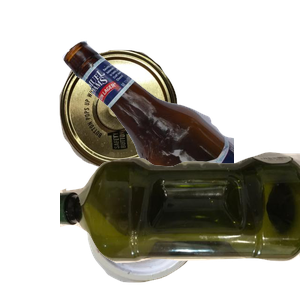glass: (60, 38, 300, 218)
metal: (57, 47, 227, 211)
plastic: (60, 149, 300, 300)
trash: (83, 163, 276, 300)
